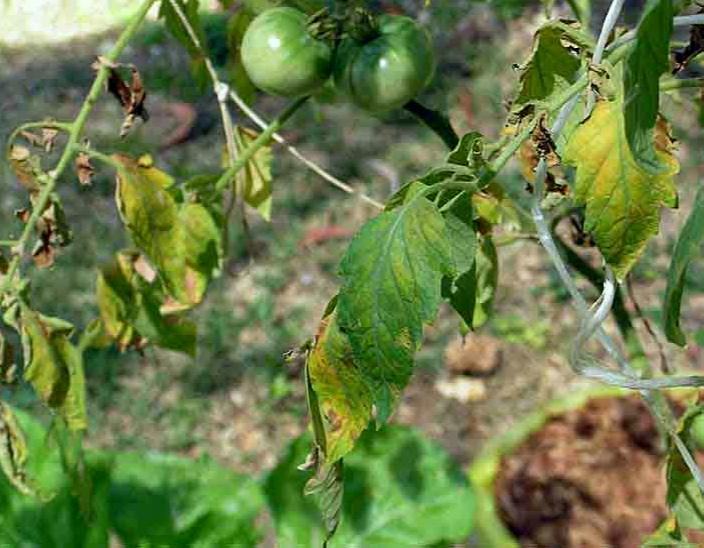Tomato mold leaf: (296, 197, 459, 490), (558, 87, 702, 300), (102, 155, 199, 298)
